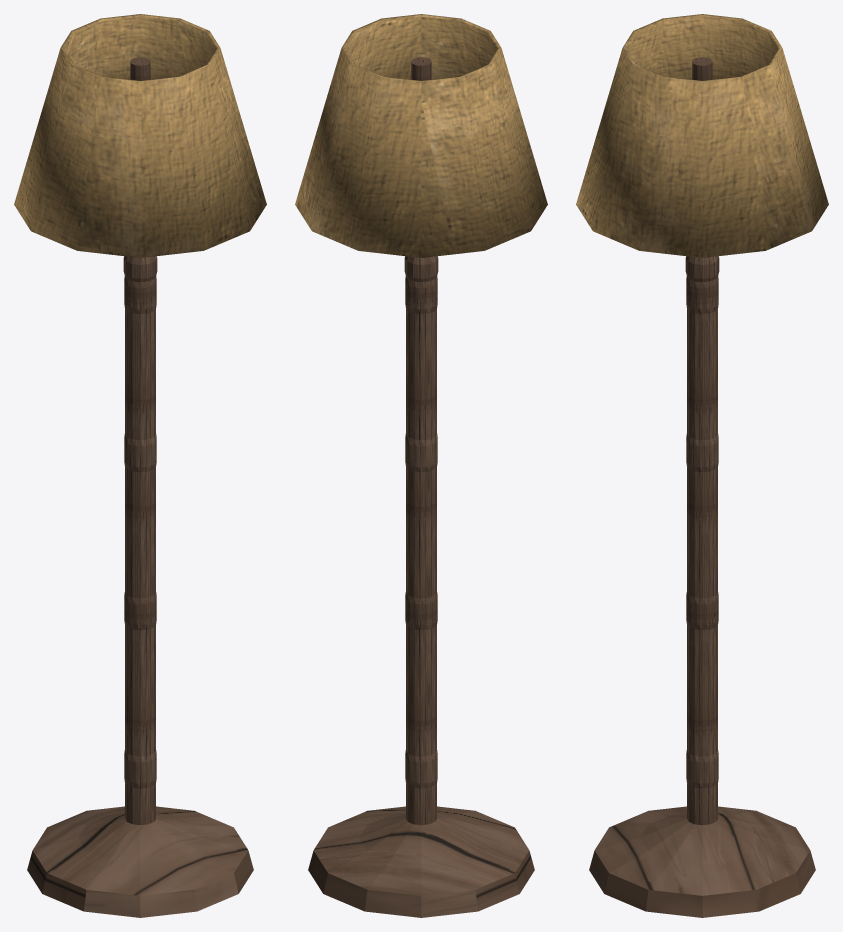
File: Lamp.fbx
3 views of the same model, side by side, from view 1: azimuth 30°, elevation 25°; view 2: azimuth 150°, elevation 25°; view 3: azimuth 270°, elevation 25° (orthographic).
Parts seen in each view (by area): view 1: Cone, Cylinder; view 2: Cone, Cylinder; view 3: Cone, Cylinder.
Part boxes in pixels (<box>): Cone: <box>14,14,266,257</box>; Cylinder: <box>27,256,253,917</box>; Cone: <box>295,14,547,257</box>; Cylinder: <box>308,256,534,917</box>; Cone: <box>576,14,828,257</box>; Cylinder: <box>589,256,815,917</box>.
Size of the model in its own units: 174 by 624 by 174.
